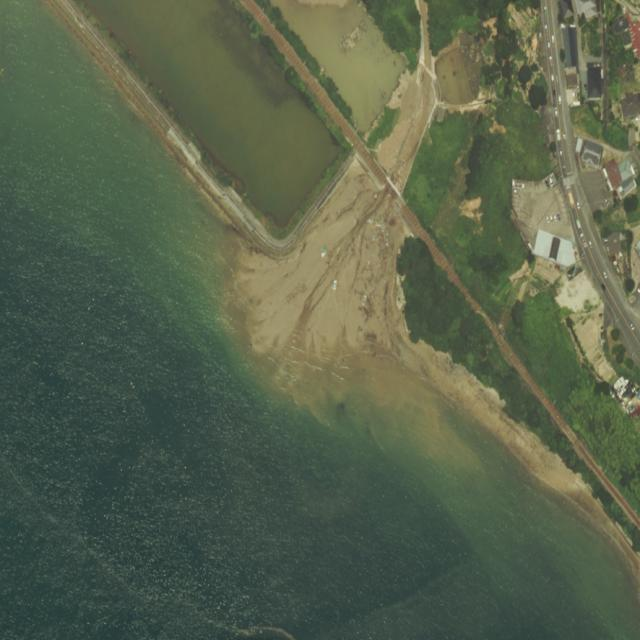landslide: (237, 160, 410, 354), (377, 66, 436, 188)
